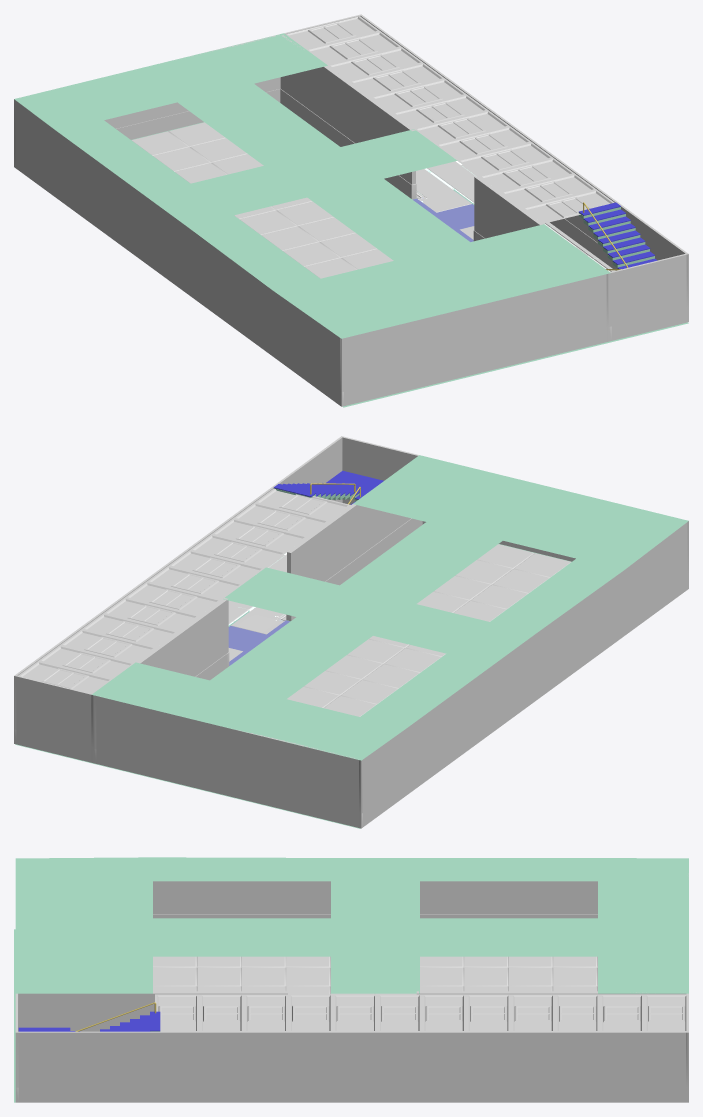
The picture shows the model from 3 angles, top to bottom: view 1: azimuth 30°, elevation 25°; view 2: azimuth 150°, elevation 25°; view 3: azimuth 270°, elevation 25°; orthographic projection. The views are drawn at different scales.
Parts seen in each view (by area): view 1: test_celling_1, main_low.001, celling1_low, main_low.012, floor2_low.007, main_low.006, main_low.009, main_low.008, step.001, main_low, main_low.003, floor2_low.002 (+3 smaller); view 2: test_celling_1, main_low.001, celling1_low, main_low, floor2_low.007, main_low.003, main_low.007, main_low.006, main_low.008, main_low.009, step.001, Plane (+2 smaller); view 3: test_celling_1, main_low.008, celling1_low, main_low.001, floor2_low.007, main_low.005, step.001, main_low.004.
Boxes of the visible parts, left/top/right/bottom form: test_celling_1: left=14, top=33, right=610, bottom=338; main_low.001: left=15, top=100, right=339, bottom=405; celling1_low: left=286, top=16, right=614, bottom=223; main_low.012: left=344, top=274, right=606, bottom=406; floor2_low.007: left=131, top=122, right=393, bottom=278; main_low.006: left=280, top=35, right=411, bottom=197; main_low.009: left=610, top=254, right=686, bottom=340; main_low.008: left=360, top=15, right=686, bottom=270; step.001: left=578, top=202, right=657, bottom=269; main_low: left=29, top=34, right=280, bottom=139; main_low.003: left=475, top=177, right=541, bottom=240; floor2_low.002: left=416, top=164, right=477, bottom=196; test_celling_1: left=92, top=455, right=688, bottom=760; main_low.001: left=363, top=522, right=687, bottom=826; celling1_low: left=18, top=488, right=350, bottom=693; main_low: left=96, top=696, right=358, bottom=827; floor2_low.007: left=287, top=544, right=570, bottom=716; main_low.003: left=290, top=504, right=422, bottom=619; main_low.007: left=16, top=675, right=91, bottom=762; main_low.006: left=138, top=599, right=227, bottom=680; main_low.008: left=16, top=437, right=342, bottom=675; main_low.009: left=342, top=436, right=418, bottom=504; step.001: left=273, top=483, right=359, bottom=500; Plane: left=228, top=611, right=289, bottom=665; test_celling_1: left=15, top=857, right=688, bottom=993; main_low.008: left=18, top=1031, right=685, bottom=1102; celling1_low: left=155, top=994, right=686, bottom=1031; main_low.001: left=153, top=881, right=597, bottom=918; floor2_low.007: left=153, top=956, right=597, bottom=994; main_low.005: left=18, top=992, right=285, bottom=1031; step.001: left=75, top=1002, right=160, bottom=1031; main_low.004: left=419, top=992, right=685, bottom=994.
Size of the model in its own units: 13982 by 3043 by 22761.
